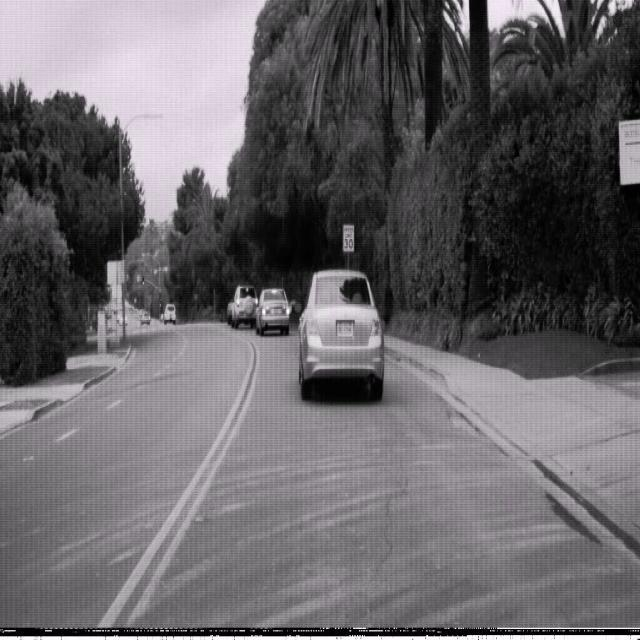speedLimit30: (342, 223, 354, 253)
